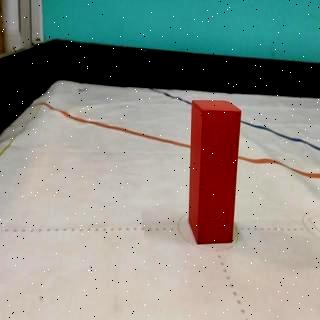redbox: (187, 98, 242, 244)
